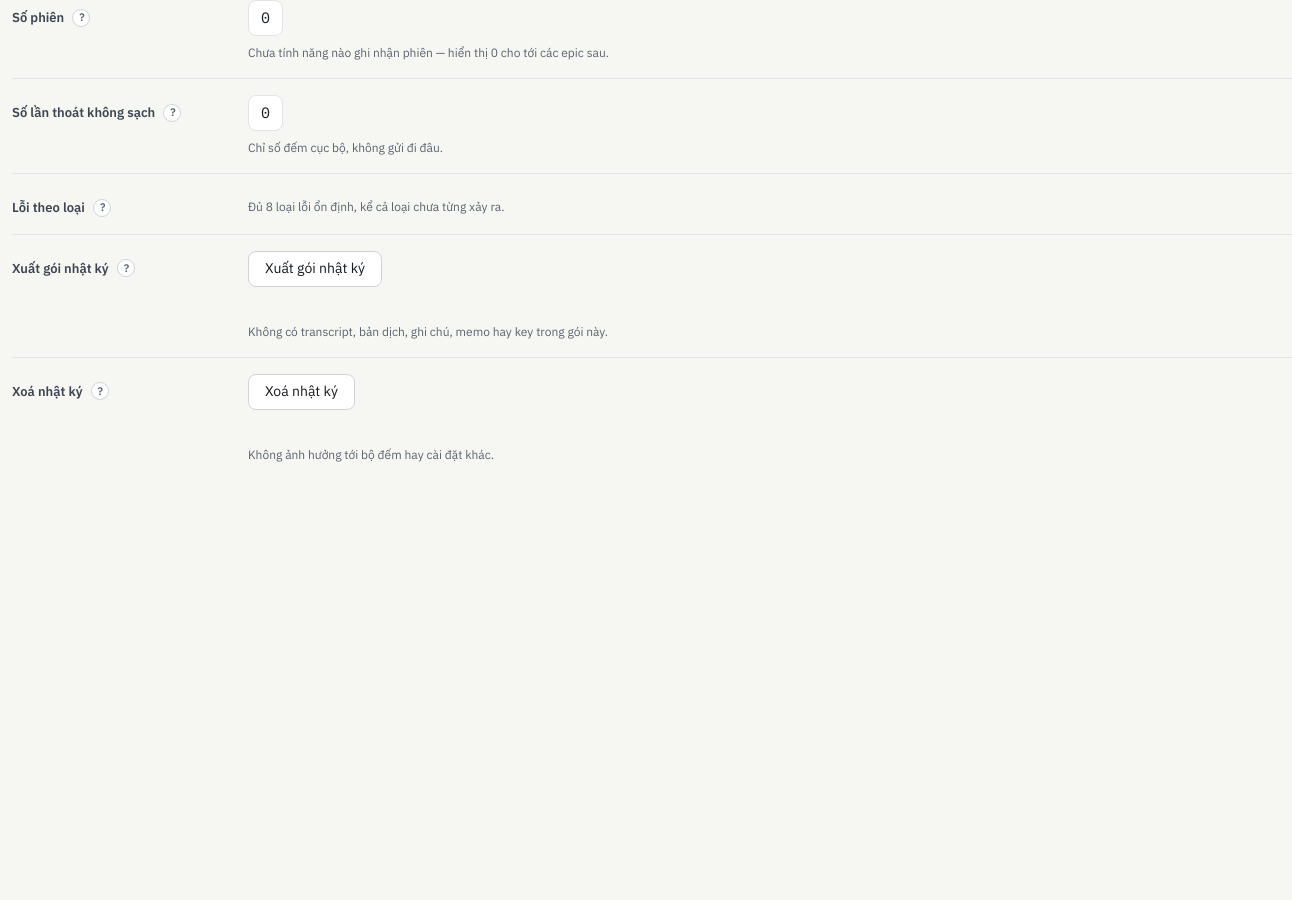
Scenario: SettingsDiagnostics › shows a storage banner when export fails
Click the button "Xuất gói nhật ký" at (315, 268), box x1=248 y1=250 x2=382 y2=286
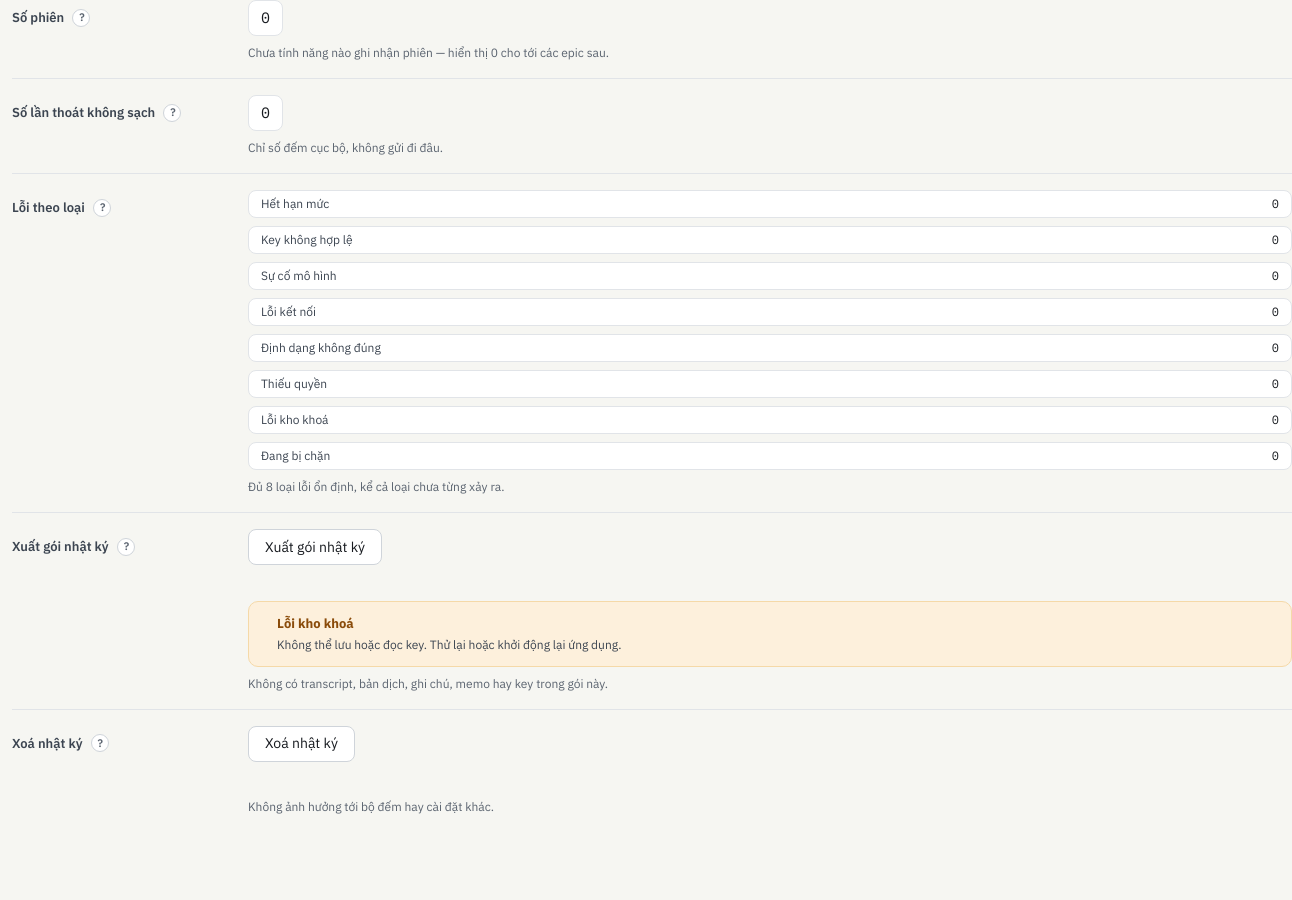
Check: the 2nd text "Lỗi kho khoá" is shown, box x1=277 y1=615 x2=354 y2=632
